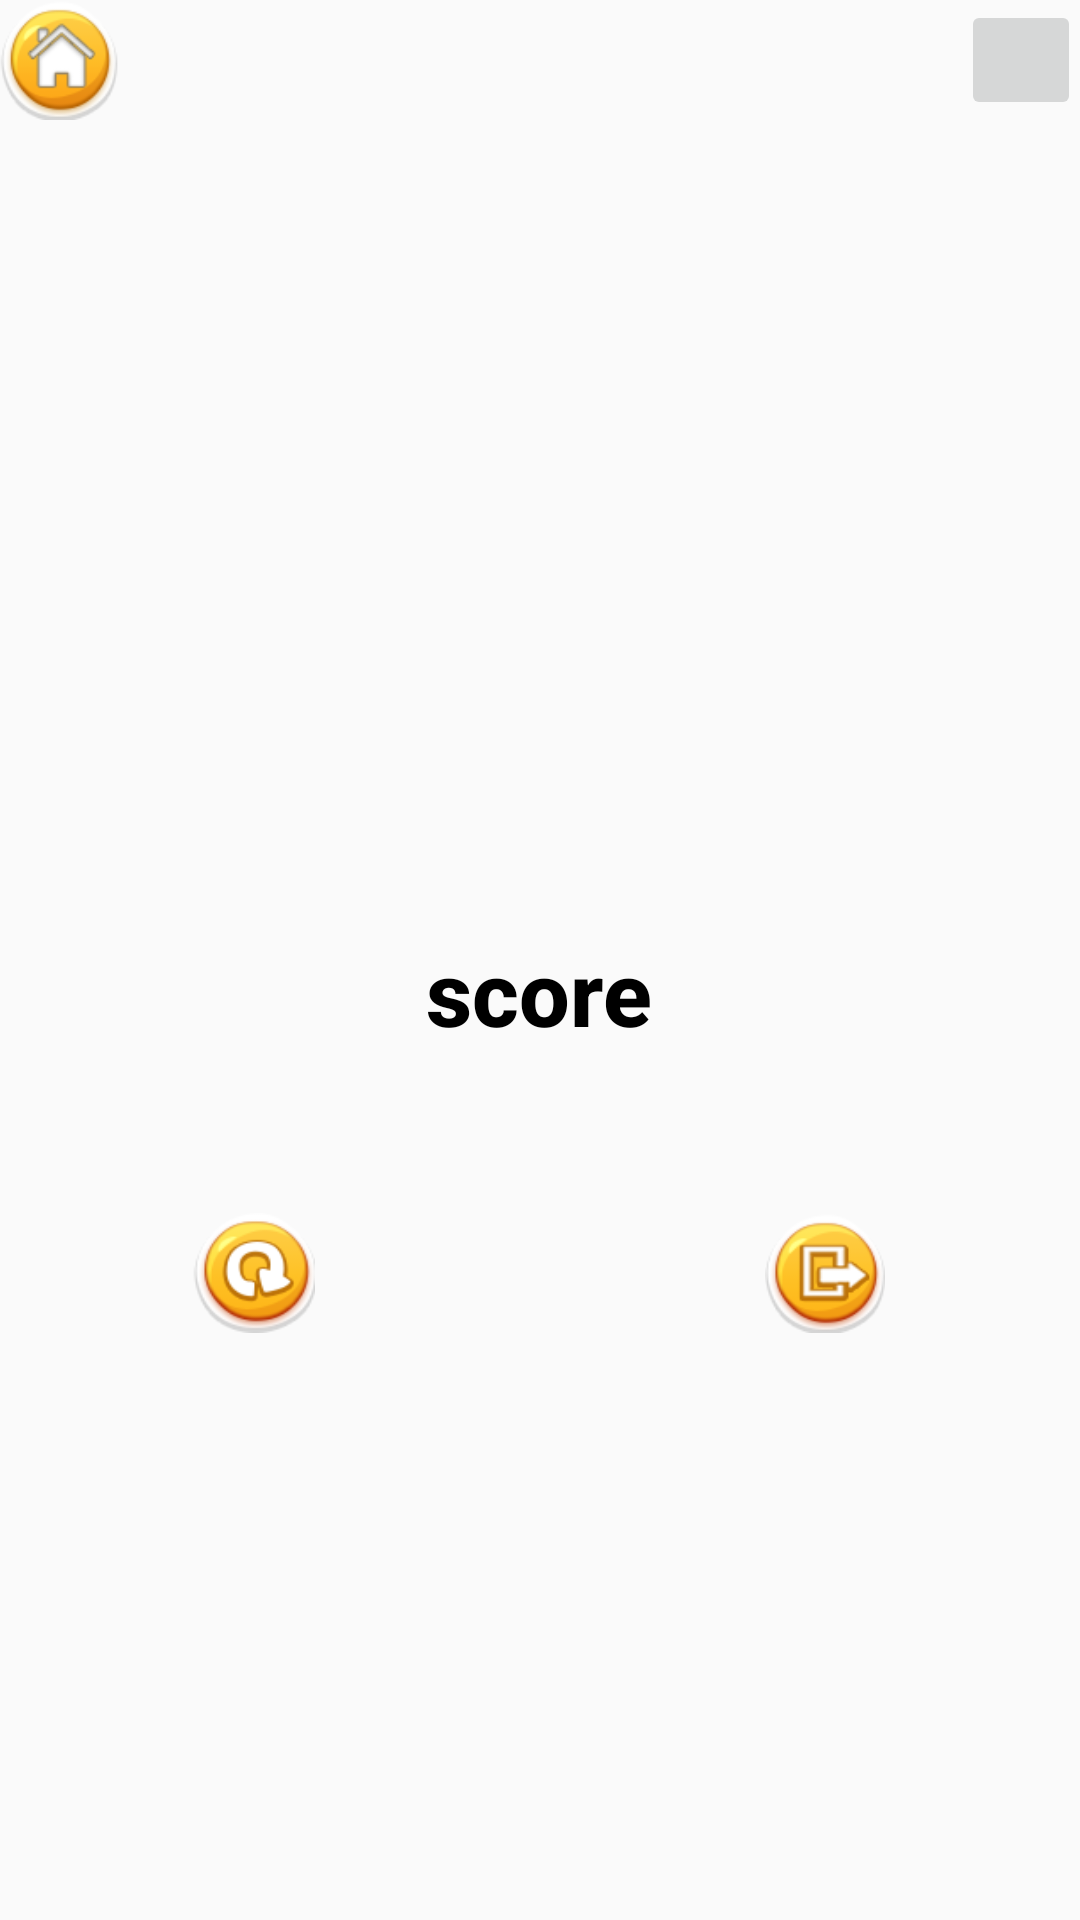

Named icons in this screenshot (1080*1920) and their bounding boxes, (x1, y1, x2, y2):
exit: (767, 1223, 885, 1333)
ornghome: (2, 10, 117, 120)
replay: (196, 1221, 315, 1333)
